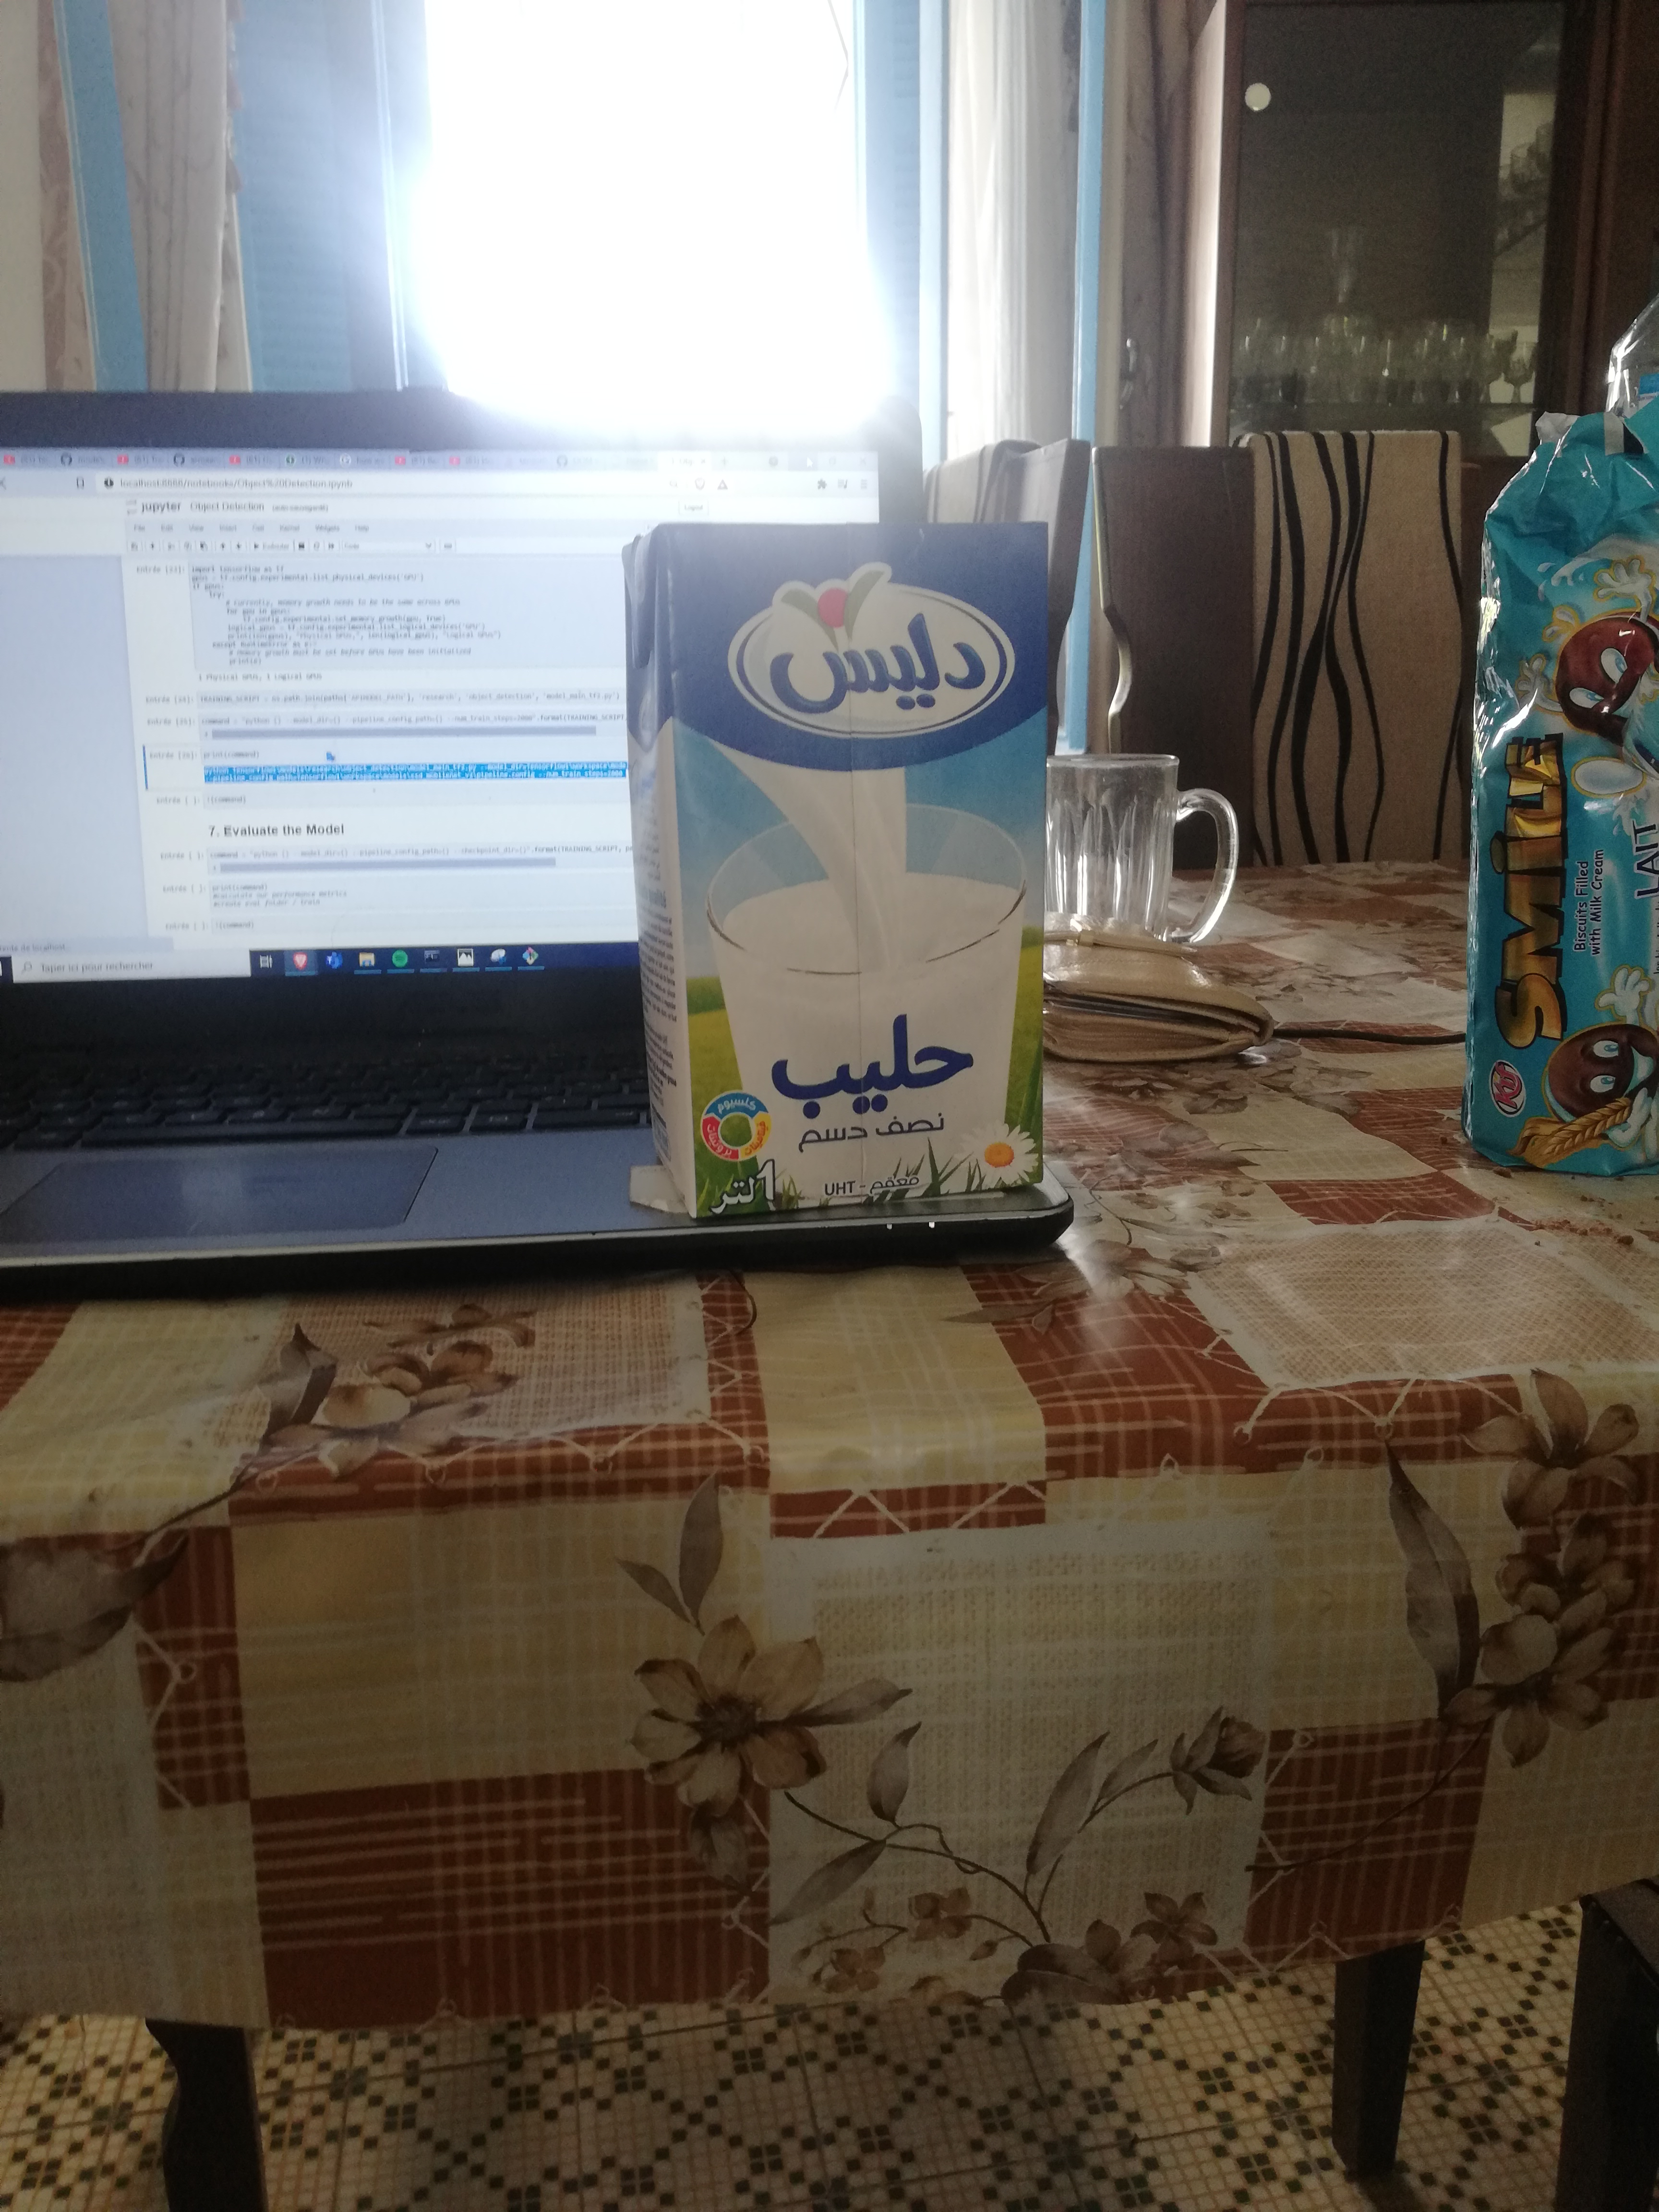Lait delice: (627, 523, 1060, 1219)
